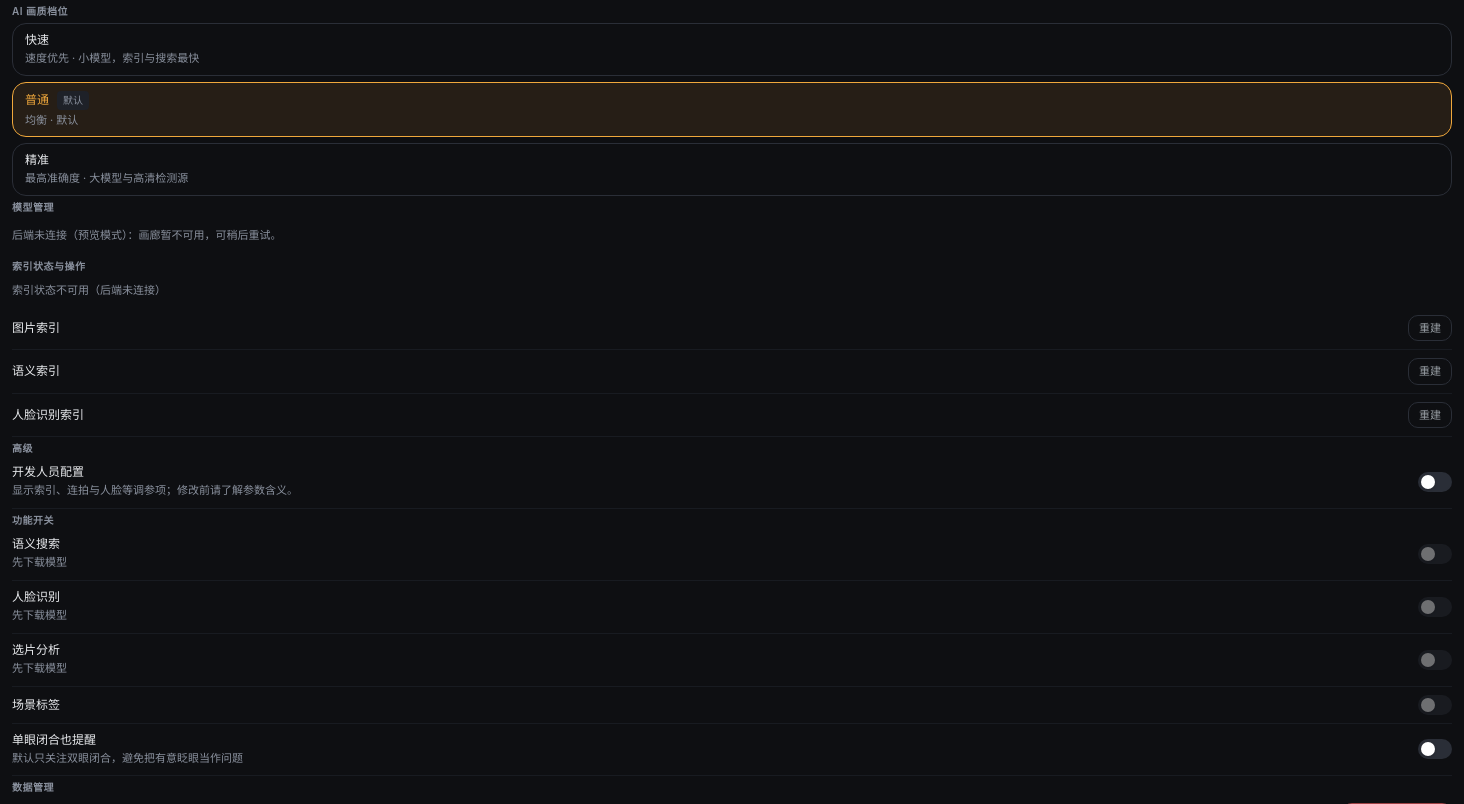
Test: 语义阈值三态（auto / 自定义） › 默认 auto：单选选中、输入禁用、标注跟随模型自动
Click the switch with test id "ai-advanced-toggle" at (1435, 482), box top-left (1418, 472), bottom-right (1452, 492)
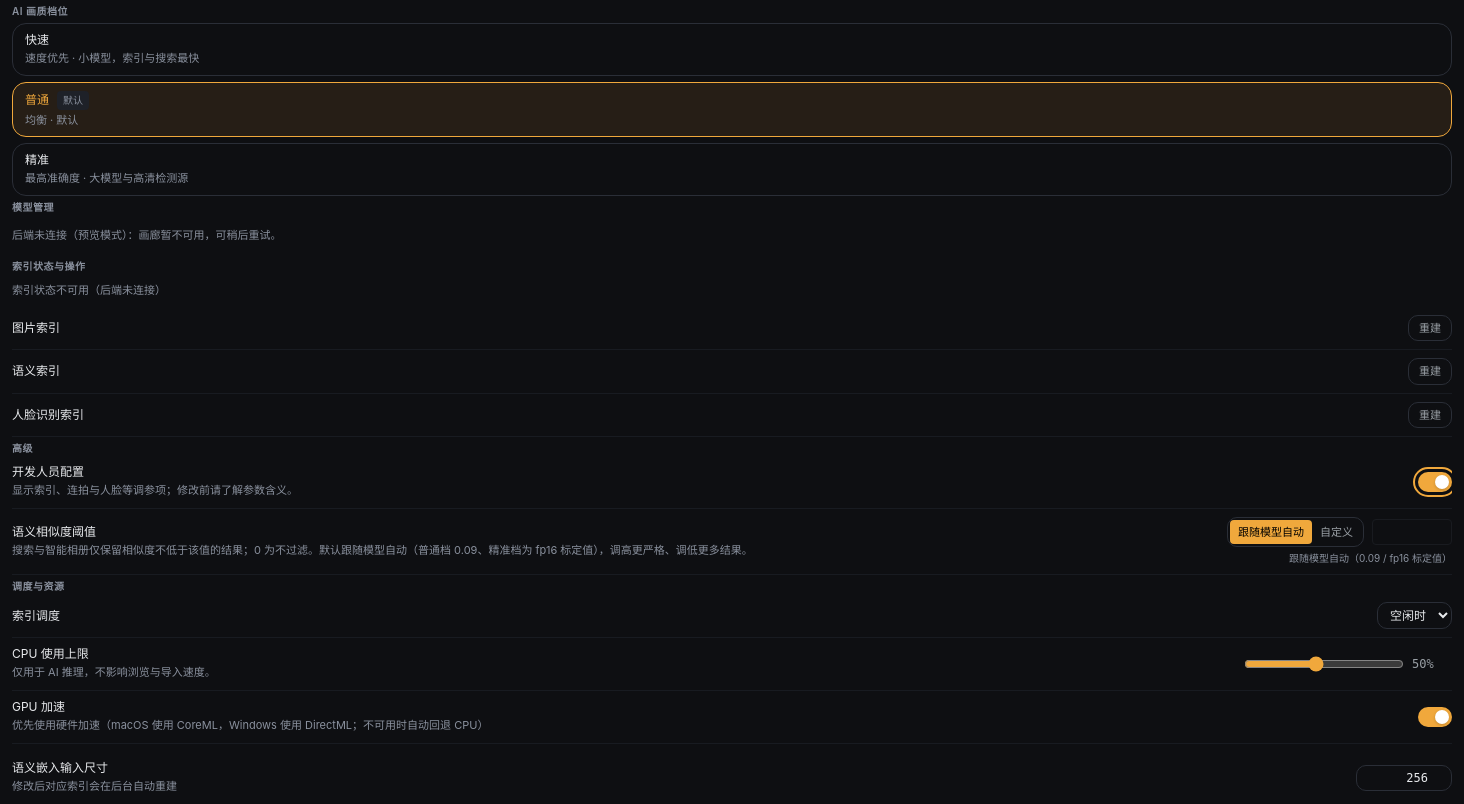
Expected: the text with test id "ai-semantic-threshold-auto-hint" reads "跟随模型自动（0.09 / fp16 标定值）", top-left (1289, 552), bottom-right (1452, 564)
